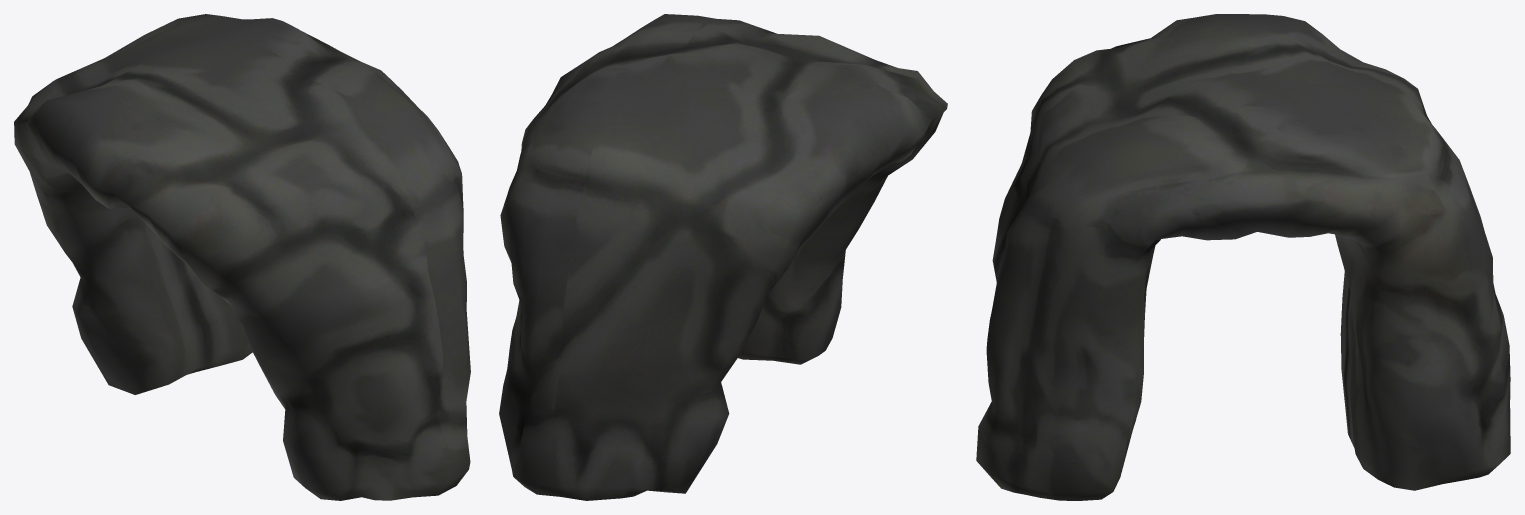
File: CaveEntrance4Shape.dae
3 views of the same model, side by side, from view 1: azimuth 30°, elevation 25°; view 2: azimuth 150°, elevation 25°; view 3: azimuth 270°, elevation 25° (orthographic).
Parts seen in each view (by area): view 1: CaveEntrance4; view 2: CaveEntrance4; view 3: CaveEntrance4.
Boxes of the visible parts, <box> form: CaveEntrance4: <box>14,14,470,500</box>; CaveEntrance4: <box>499,14,947,500</box>; CaveEntrance4: <box>976,14,1510,500</box>.
Bounding box in the file's own units: 11.3 × 11.94 × 15.71.
